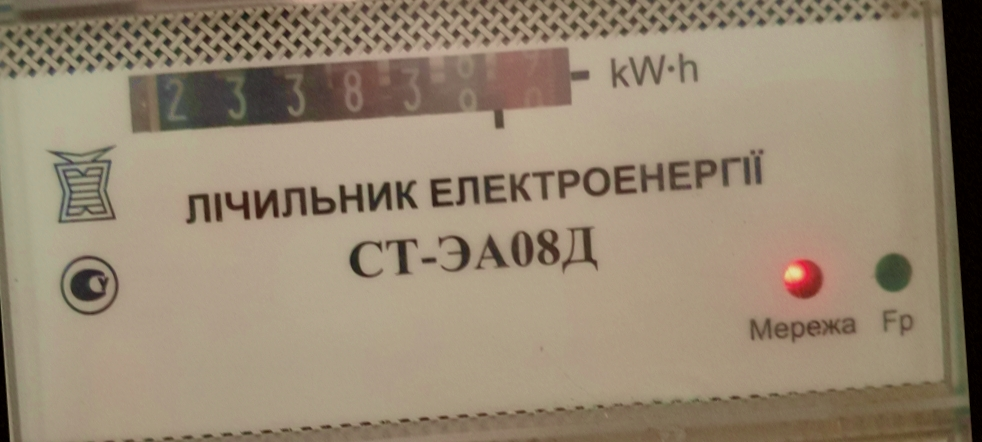0: (521, 81, 548, 107)
2: (161, 72, 191, 122)
3: (221, 70, 252, 121), (283, 67, 310, 119), (398, 61, 426, 111)
8: (340, 65, 367, 112), (452, 51, 481, 79)
9: (454, 82, 482, 112), (519, 46, 545, 76)
screen: (116, 31, 593, 155)
